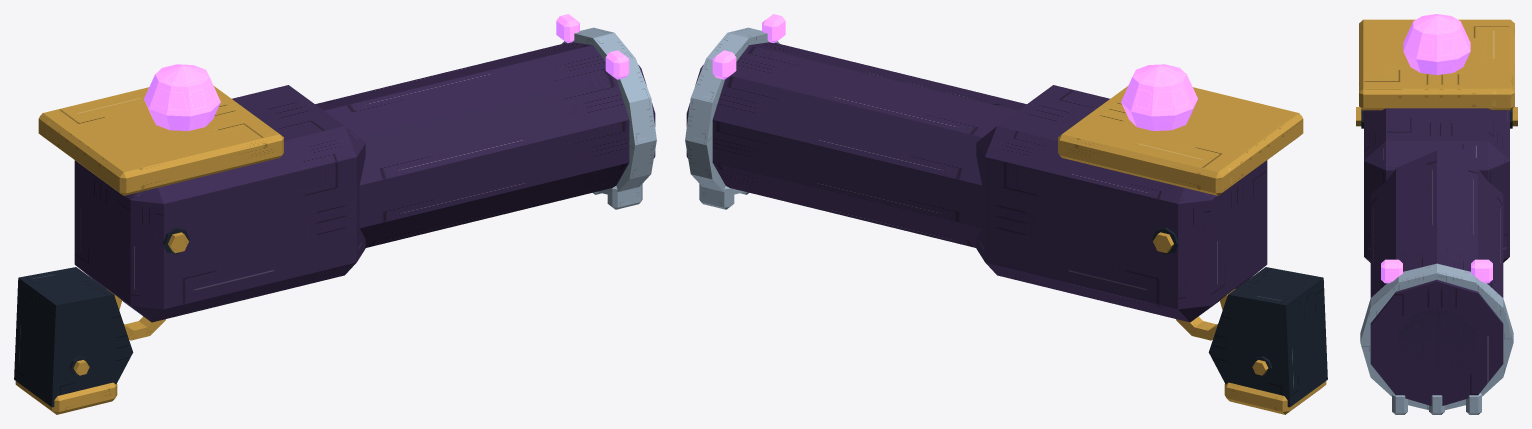
Rendered from grimcannon.glb.
The picture shows the model from 3 angles, left to right: view 1: azimuth 30°, elevation 25°; view 2: azimuth 150°, elevation 25°; view 3: azimuth 270°, elevation 25°; orthographic projection. The views are drawn at different scales.
Parts seen in each view (by area): view 1: body, barrel, grip, core; view 2: body, barrel, grip, core; view 3: barrel, body, core.
Boxes of the visible parts, x1,y1,x2,y2 form: body: (38, 85, 365, 340); barrel: (315, 14, 656, 247); grip: (14, 267, 133, 414); core: (144, 64, 220, 130); body: (976, 85, 1303, 340); barrel: (685, 14, 1026, 247); grip: (1208, 267, 1327, 414); core: (1121, 64, 1197, 130); barrel: (1360, 150, 1513, 414); body: (1356, 19, 1517, 262); core: (1403, 14, 1470, 74).
Size of the model in its own units: 0.699 by 0.343 by 0.1838.
5 materials, 5 textured.
